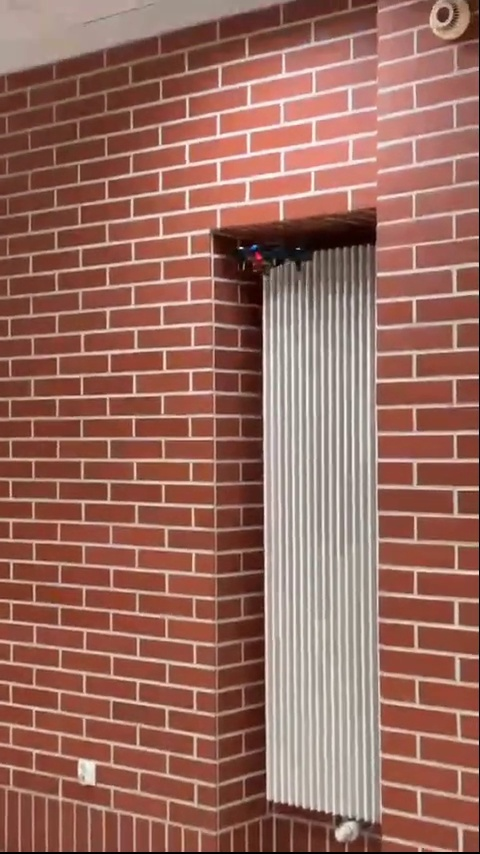drone: (226, 237, 312, 270)
